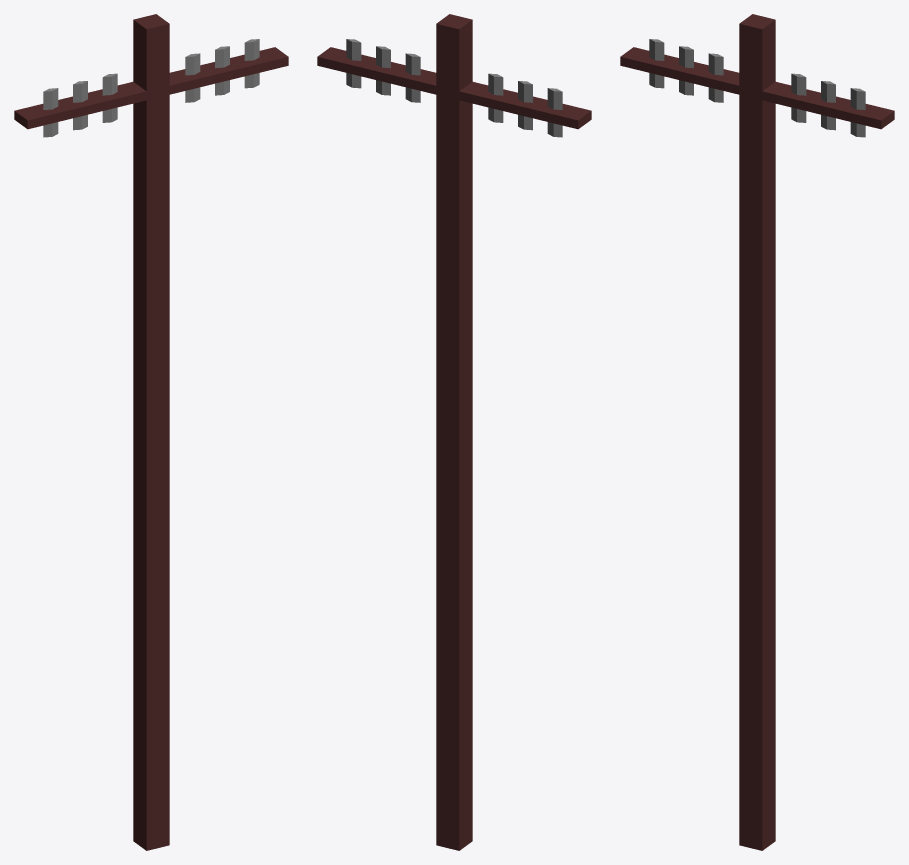
File: pole.fbx
The picture shows the model from 3 angles, left to right: view 1: azimuth 30°, elevation 25°; view 2: azimuth 150°, elevation 25°; view 3: azimuth 330°, elevation 25°; orthographic projection.
Parts seen in each view (by area): view 1: pCube6; view 2: pCube6; view 3: pCube6.
Part boxes in pixels (x1=…): pCube6: x1=14, y1=14, x2=288, y2=850; pCube6: x1=317, y1=14, x2=591, y2=850; pCube6: x1=620, y1=14, x2=894, y2=850.
Size of the model in its own units: 109 by 329 by 9.66.
